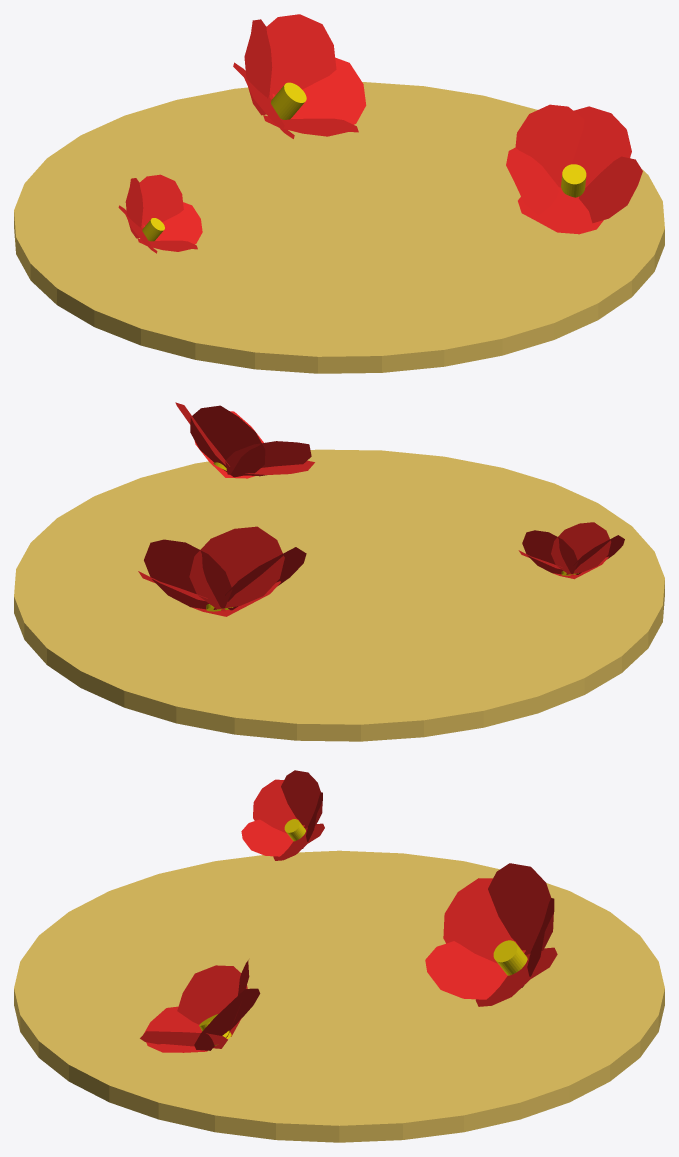
File: haikei.glb
3 renders of one model, top to bottom at view 1: azimuth 30°, elevation 25°; view 2: azimuth 150°, elevation 25°; view 3: azimuth 270°, elevation 25°, orthographic.
Visible parts, largest first — view 1: Cylinder.003, Circle.004, Circle.003, Circle.001, Cylinder.001, Cylinder.004; view 2: Cylinder.003, Circle.003, Circle.004, Circle.001; view 3: Cylinder.003, Circle.003, Circle.004, Circle.001, Cylinder.001.
Boxes of the visible parts, x1,y1,x2,y2 form: Cylinder.003: [14, 82, 664, 373]; Circle.004: [506, 104, 642, 234]; Circle.003: [233, 14, 366, 138]; Circle.001: [118, 174, 202, 253]; Cylinder.001: [271, 82, 306, 119]; Cylinder.004: [561, 164, 586, 197]; Cylinder.003: [14, 449, 664, 741]; Circle.003: [138, 526, 306, 616]; Circle.004: [175, 402, 314, 478]; Circle.001: [518, 522, 624, 579]; Cylinder.003: [14, 850, 664, 1142]; Circle.003: [425, 863, 557, 1006]; Circle.004: [140, 960, 260, 1052]; Circle.001: [241, 770, 324, 860]; Cylinder.001: [493, 940, 527, 975].
Bounding box in the file's own units: 1.22 × 0.2957 × 1.22.
